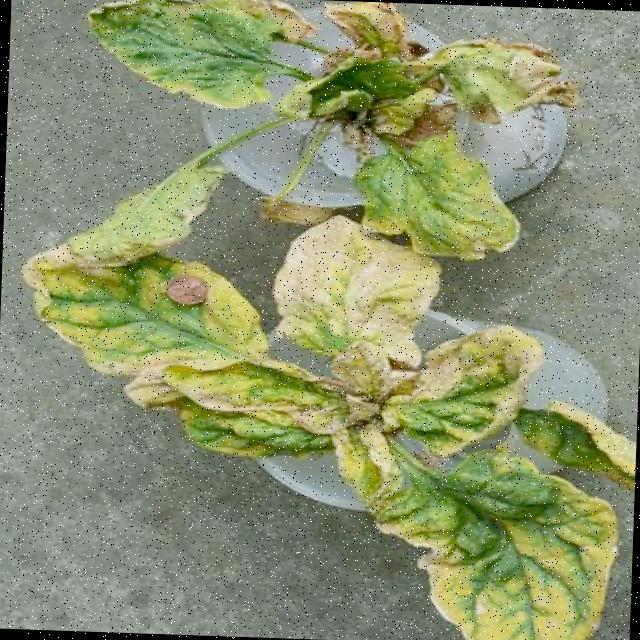Lettuce Mosaic Virus: (110, 2, 548, 236), (31, 252, 516, 430), (348, 347, 625, 630)
